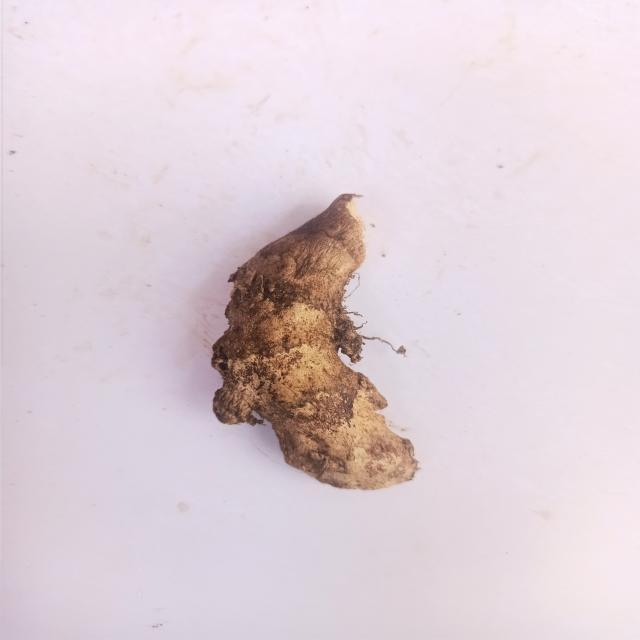Ginger: (206, 181, 426, 504)
